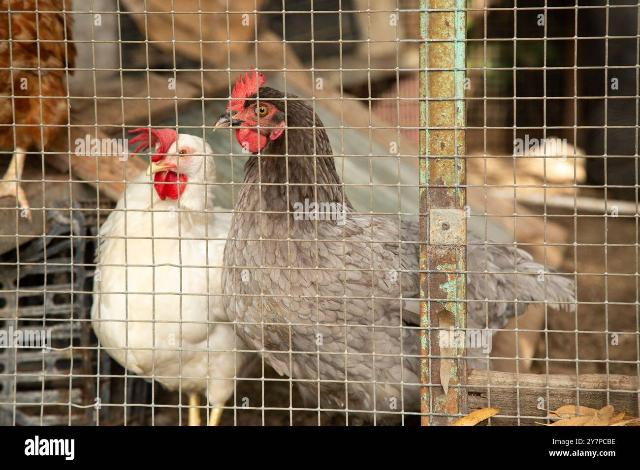Chicken: (214, 67, 578, 424), (90, 124, 260, 424), (0, 0, 76, 217)
